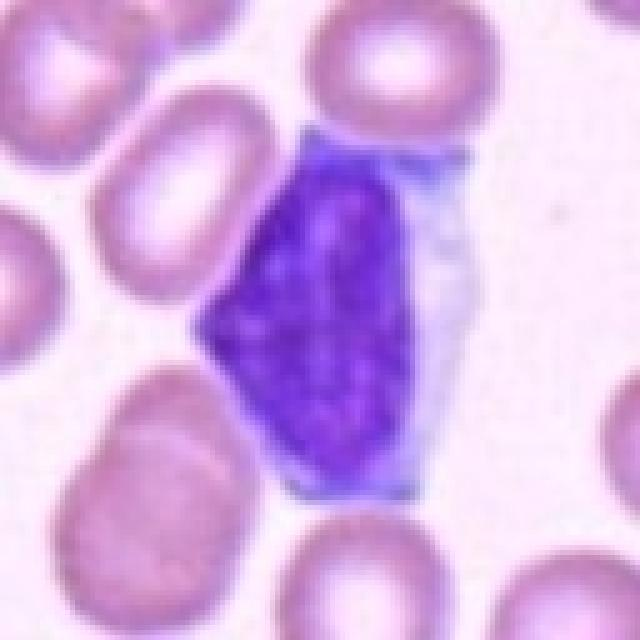lympho: (188, 101, 493, 516)
